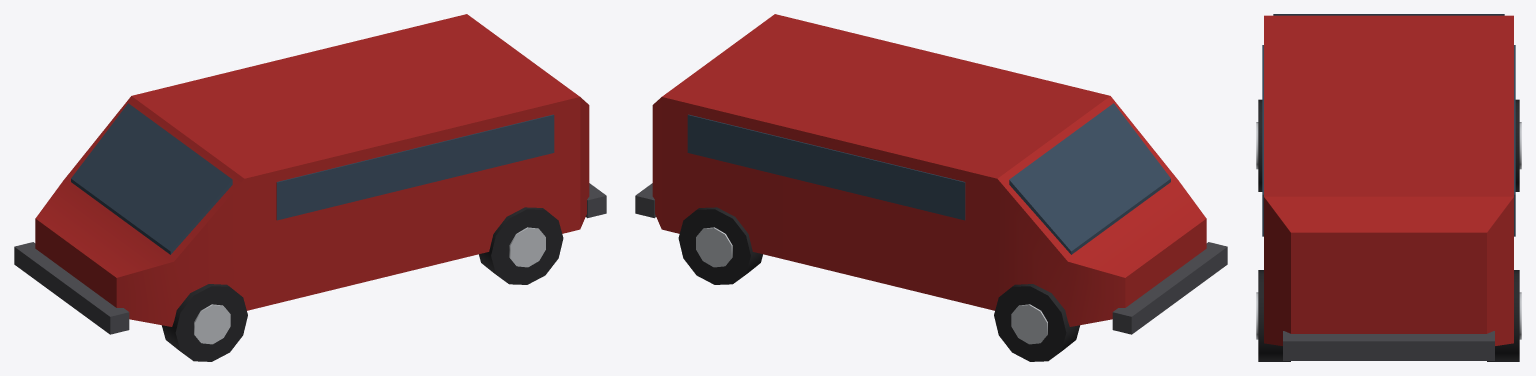
Rendered from car_van_red.fbx.
3 renders of one model, left to right at view 1: azimuth 30°, elevation 25°; view 2: azimuth 150°, elevation 25°; view 3: azimuth 270°, elevation 25°, orthographic. The views are drawn at different scales.
Parts seen in each view (by area): view 1: Body, Wheel_FR, Wheel_RR; view 2: Body, Wheel_FL, Wheel_RL; view 3: Body, Wheel_RL, Wheel_RR, Wheel_FL, Wheel_FR.
Boxes of the visible parts, box(x1,y1,x2,y2) form: Body: box(14, 14, 606, 334); Wheel_FR: box(162, 284, 247, 361); Wheel_RR: box(479, 207, 563, 284); Body: box(635, 14, 1227, 334); Wheel_FL: box(994, 284, 1079, 361); Wheel_RL: box(678, 207, 762, 284); Body: box(1262, 14, 1515, 360); Wheel_RL: box(1487, 270, 1521, 361); Wheel_RR: box(1256, 270, 1290, 361); Wheel_FL: box(1515, 99, 1521, 191); Wheel_FR: box(1256, 99, 1262, 191).
Bounding box in the file's own units: 4.66 × 1.55 × 1.95.
